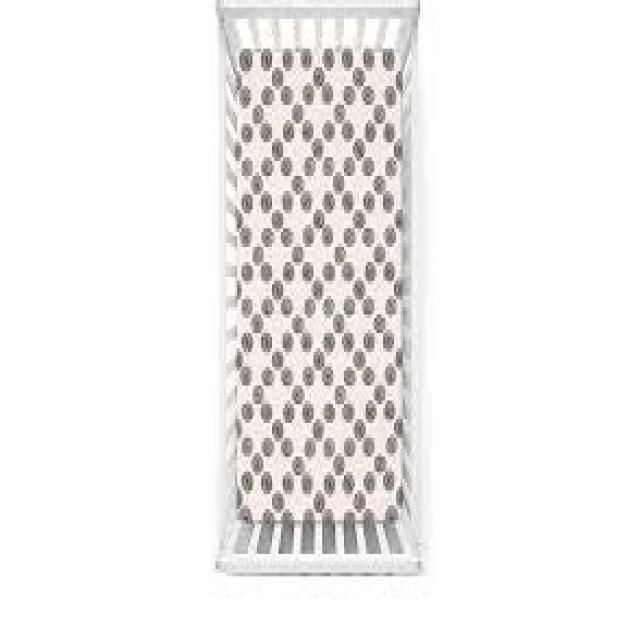crib: (211, 0, 424, 576)
